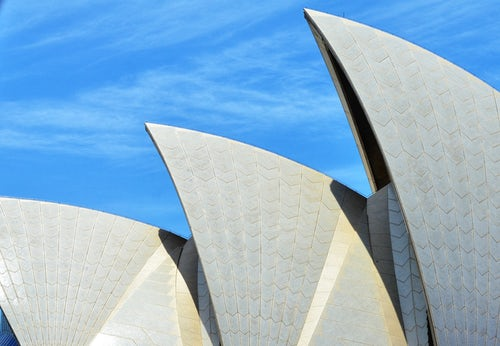opera house: (3, 6, 496, 346)
